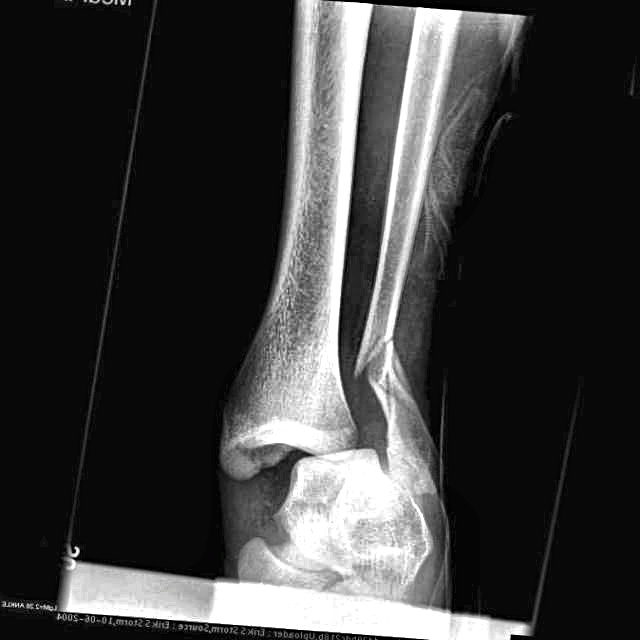Oblique Displaced: (346, 324, 412, 420)
